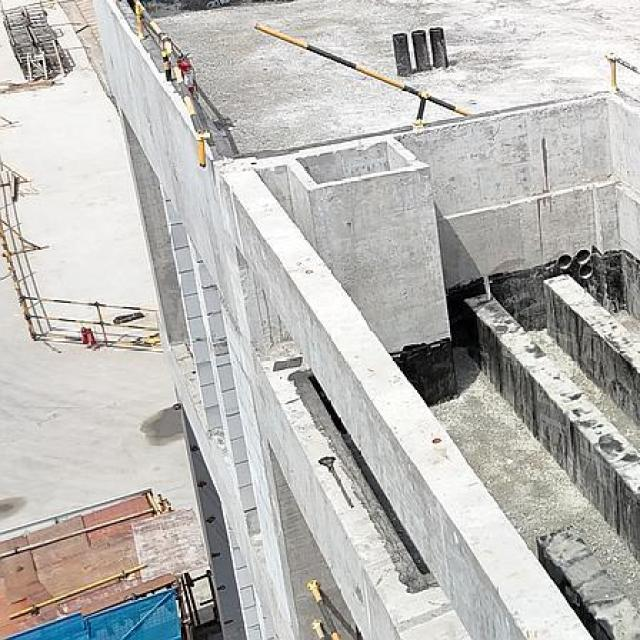edge_guardrail: (252, 18, 471, 131), (133, 0, 211, 169), (305, 575, 343, 640), (608, 48, 639, 92)
